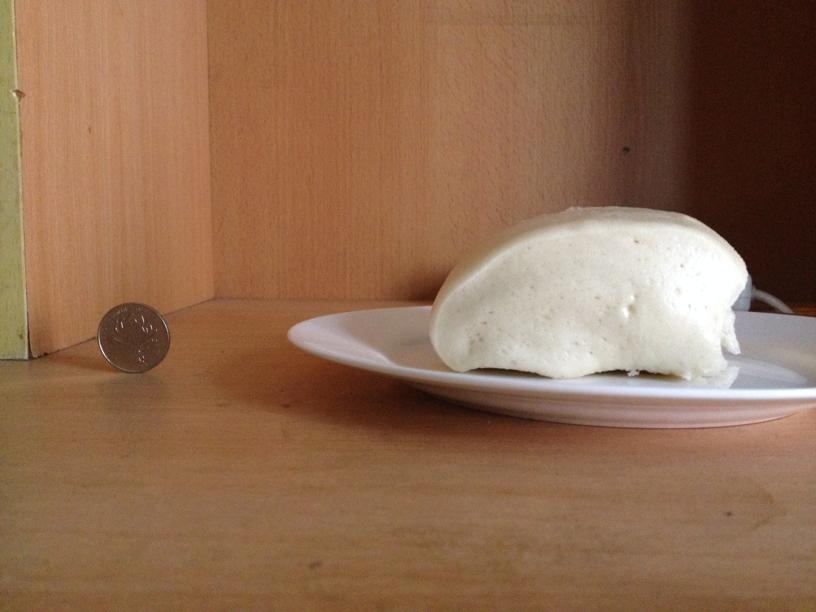bun: (432, 200, 747, 375)
coin: (94, 304, 171, 370)
